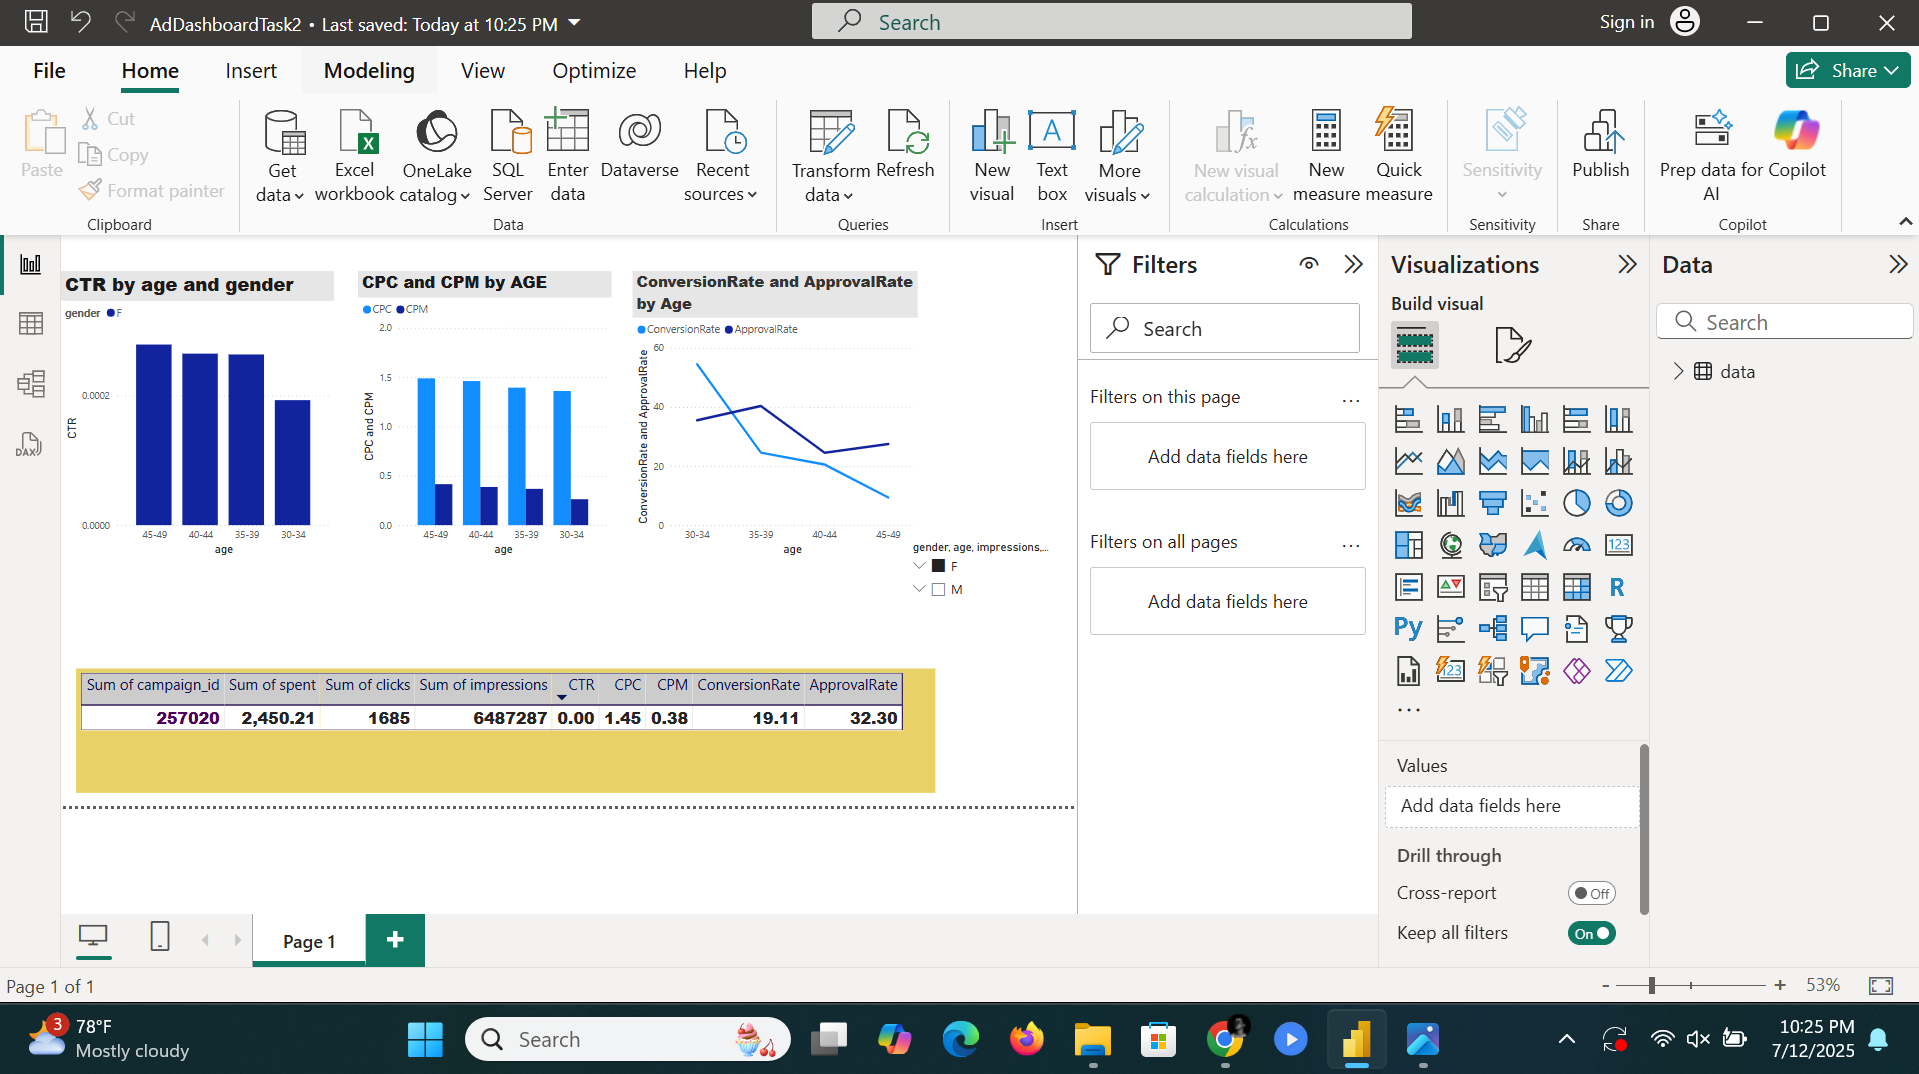

Layout of this report page (visuals, bound fields, positions):
{"tool":"powerbi","page":{"name":"Page 1","canvas":[1280,720],"ordinal":0},"visuals":[{"type":"columnChart","fields":{"Category":["data.age"],"Series":["data.gender"],"Y":["data.CTR"]},"box":[0,45.4,343.9,362.8],"z":0},{"type":"clusteredColumnChart","title":"CPC and CPM by AGE","fields":{"Category":["data.age"],"Y":["data.CPC","data.CPM"]},"box":[374.2,45.4,319.4,362.8],"z":1000},{"type":"lineChart","title":"ConversionRate and ApprovalRate by Age","fields":{"Category":["data.age"],"Y":["data.ConversionRate","data.ApprovalRate"]},"box":[720,45.4,359.1,362.8],"z":2000},{"type":"tableEx","fields":{"Values":["Sum(data.campaign_id)","Sum(data.spent)","Sum(data.clicks)","Sum(data.impressions)","data.CTR","data.CPC","data.CPM","data.ConversionRate","data.ApprovalRate"]},"box":[18.9,546.1,1082.8,156.9],"z":3000},{"type":"slicer","fields":{"Values":["data.gender","data.age","data.impressions","data.clicks"]},"box":[1060.2,379.8,206,143.6],"z":4000}]}

Visuals, with their boxes on the page's 1280x720 design canvas (x1, y1, x2, y2). These are canvas units, not pixel positions in the 1919x1074 screenshot, which may show the page scaled, cropped or inside an application window:
columnChart - data.age x data.gender: bbox=(0, 45, 344, 408)
"CPC and CPM by AGE" clusteredColumnChart: bbox=(374, 45, 694, 408)
"ConversionRate and ApprovalRate by Age" lineChart: bbox=(720, 45, 1079, 408)
tableEx - Sum(data.campaign_id) x Sum(data.spent): bbox=(19, 546, 1102, 703)
slicer - data.gender x data.age: bbox=(1060, 380, 1266, 523)
